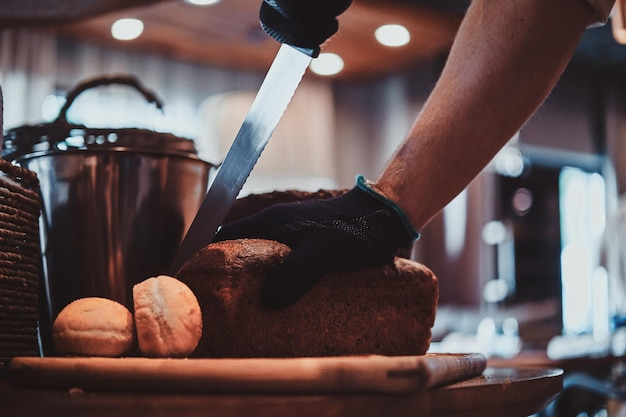knife: (165, 43, 315, 278)
